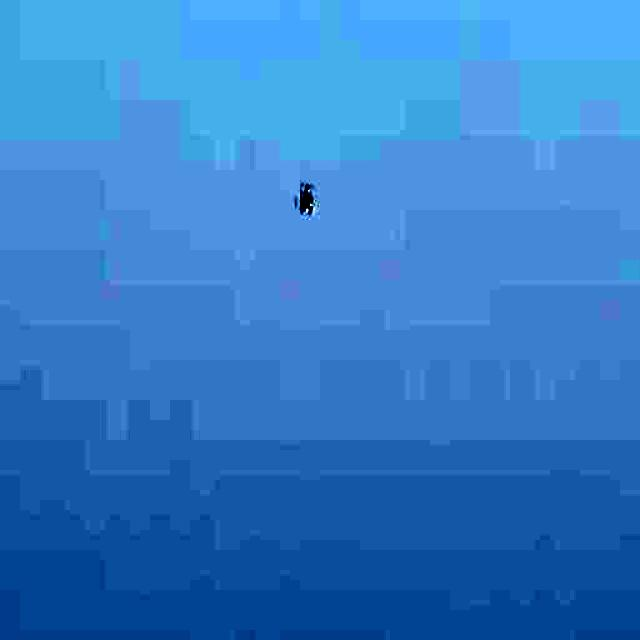drone: (298, 176, 318, 221)
